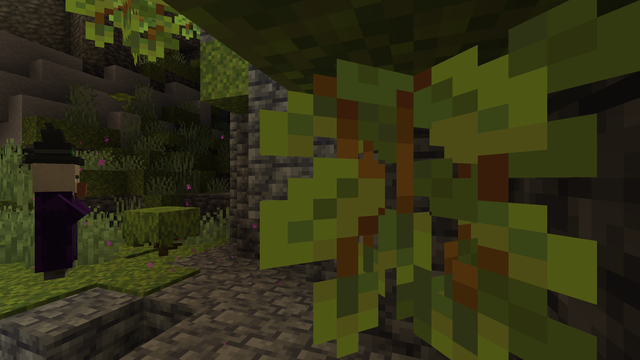sorcieres: (21, 157, 90, 281)
